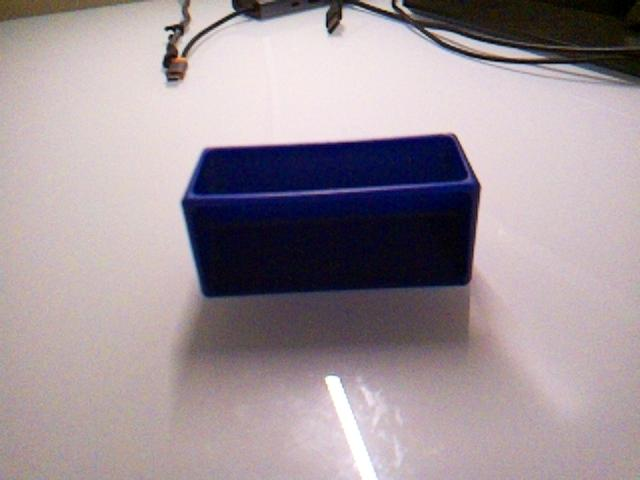blue: (180, 131, 482, 298)
